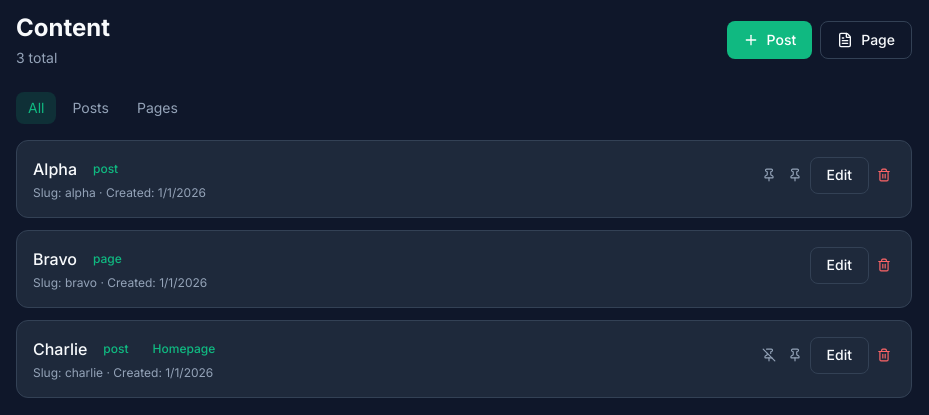
Test case: Content settings page › filtering › filters to posts when "Posts" tab clicked
Expected: the text "Alpha" is shown, [33,157,77,181]
Click the button "Posts". click: [91, 108]
box: [60,92,121,124]
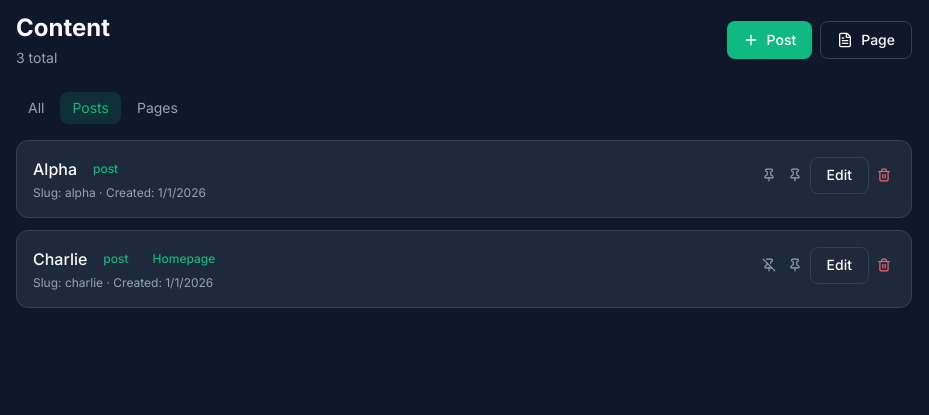
Expected: the text "Alpha" is shown, [33,157,77,181]
Expected: the text "Bravo" is gone
